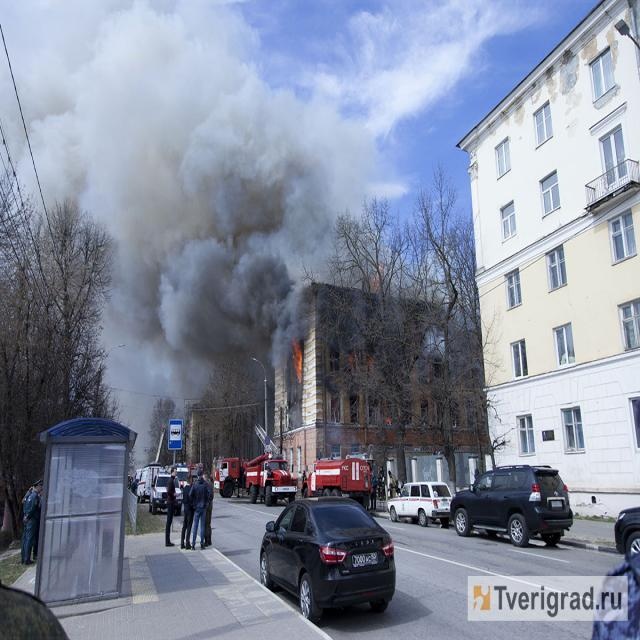Fire: (292, 336, 303, 384)
Smoke: (0, 0, 337, 440)
